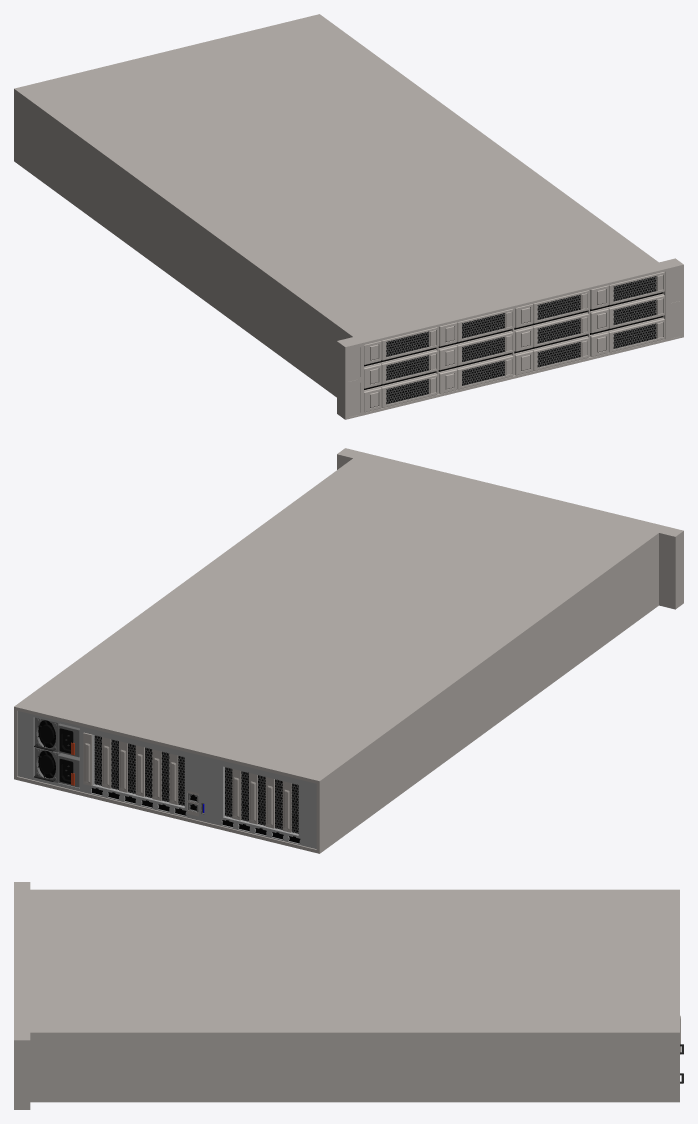
The model's file is ORACLE_X8-2L.fbx.
The picture shows the model from 3 angles, top to bottom: view 1: azimuth 30°, elevation 25°; view 2: azimuth 150°, elevation 25°; view 3: azimuth 270°, elevation 25°; orthographic projection. The views are drawn at different scales.
Parts seen in each view (by area): view 1: ORACLE_X8-2L; view 2: ORACLE_X8-2L; view 3: ORACLE_X8-2L.
Boxes of the visible parts, x1=… form: ORACLE_X8-2L: x1=14, y1=14, x2=683, y2=419; ORACLE_X8-2L: x1=14, y1=448, x2=683, y2=853; ORACLE_X8-2L: x1=14, y1=882, x2=683, y2=1109.
Bounding box in the file's own units: 434 × 89 × 777.
Materials: 9 (1 with a texture image).
